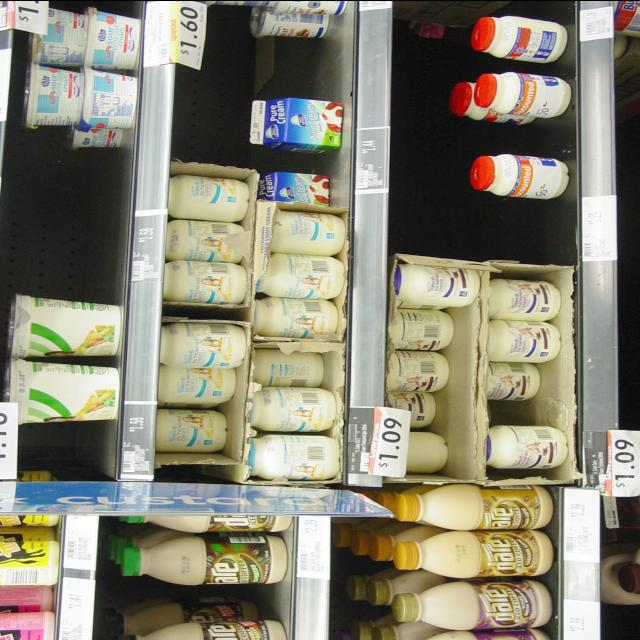empty_space: (17, 150, 123, 283), (407, 202, 570, 246), (206, 44, 342, 88), (425, 120, 567, 152)
